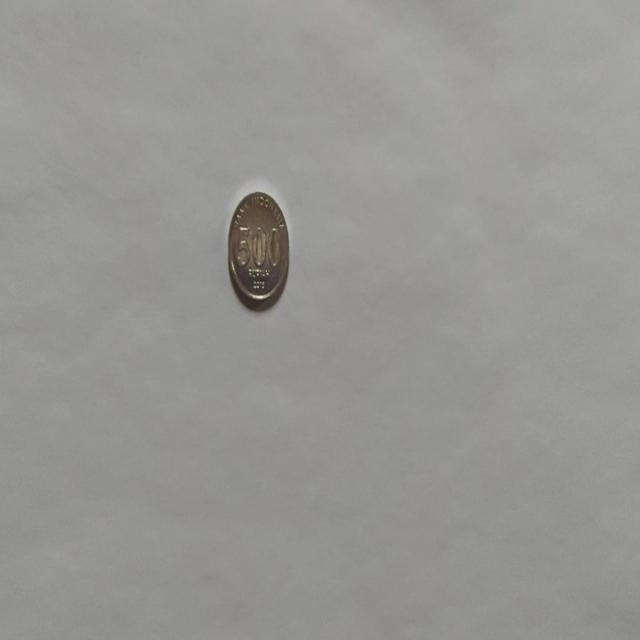lima ratus rupiah: (226, 188, 290, 312)
